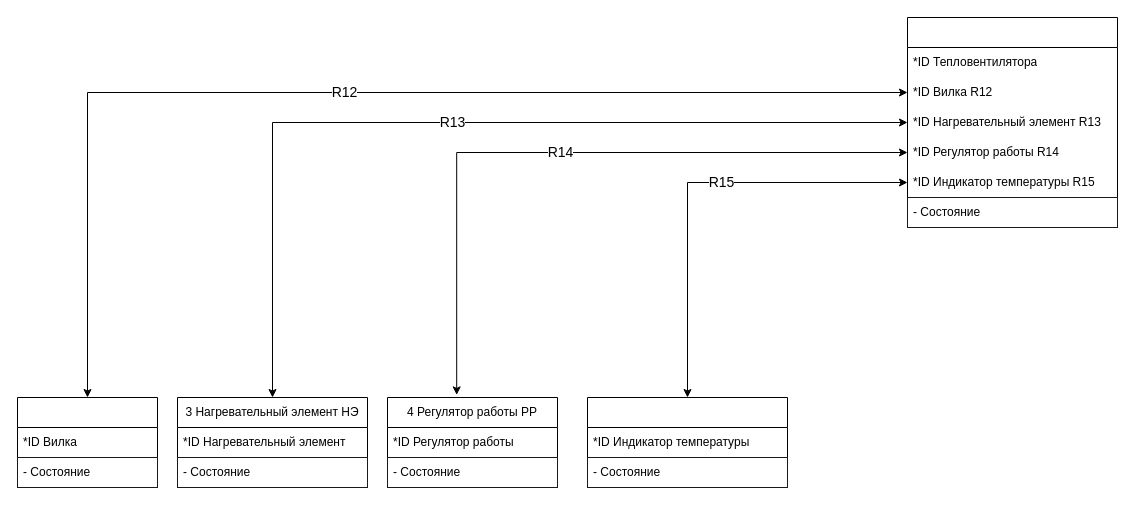
The diagram is 1143 pixels wide and 505 high, and some of its shapes have lost their labels. Here are the shapes that lost their labels. From the top down, the box of each, then its label:
(906, 16, 1118, 228): 1 Тепловентилятор Т
(16, 396, 158, 488): 2 Вилка В
(586, 396, 788, 488): 5 Индикатор температуры ИТ
